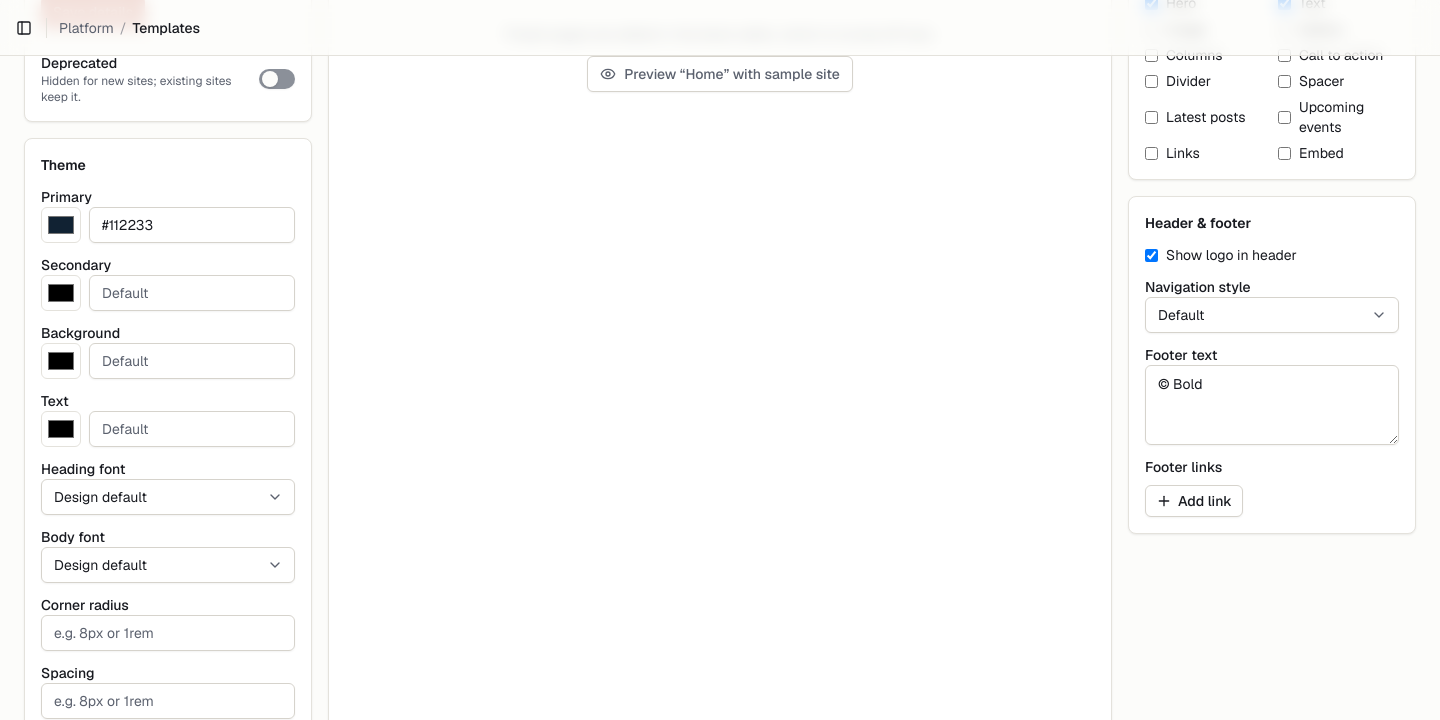
it: template editor › shows a backend 400 path in words
This screenshot has width=1440, height=720.
(page scrolled)
Replace the text in the text box labelled "Footer text" with "changed": (1272, 405) [1145,365,1399,445]
(page scrolled)
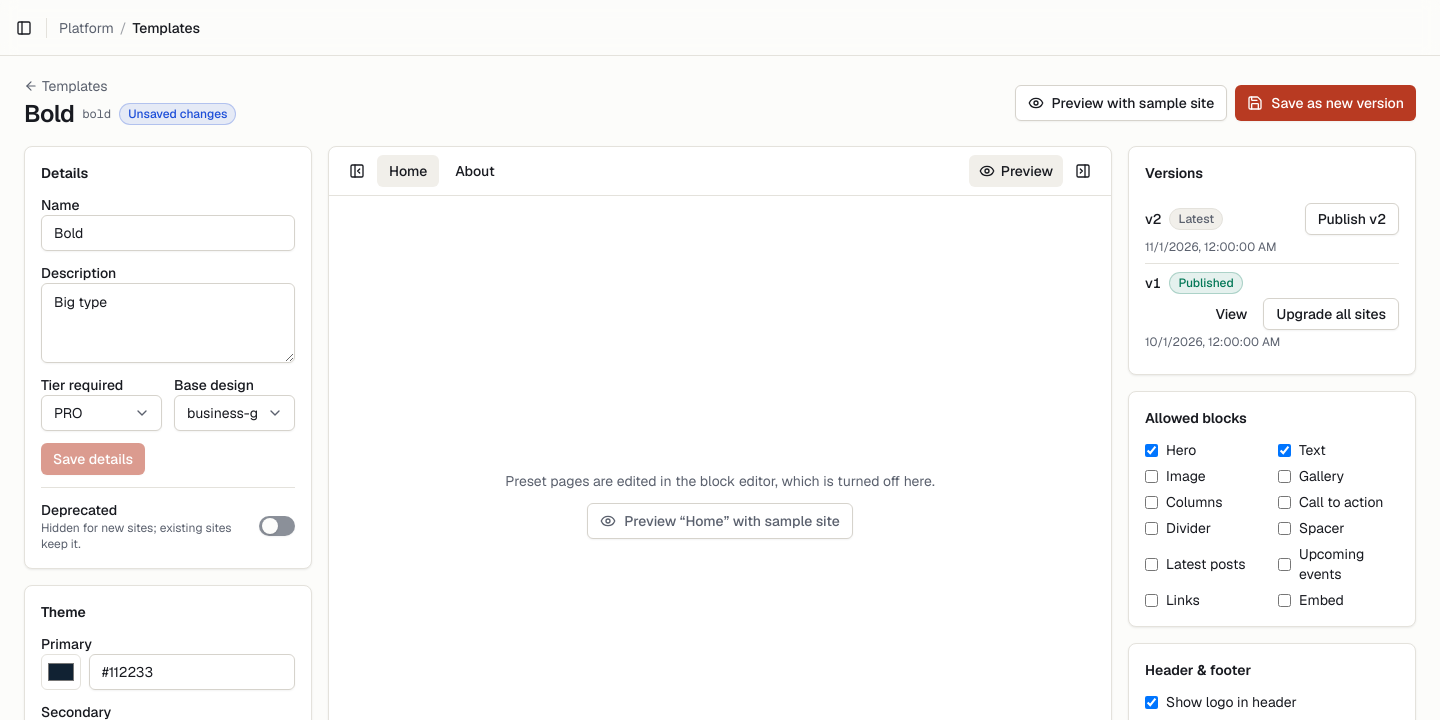
Click the button "Save as new version": (1326, 103) [1235,85,1416,121]
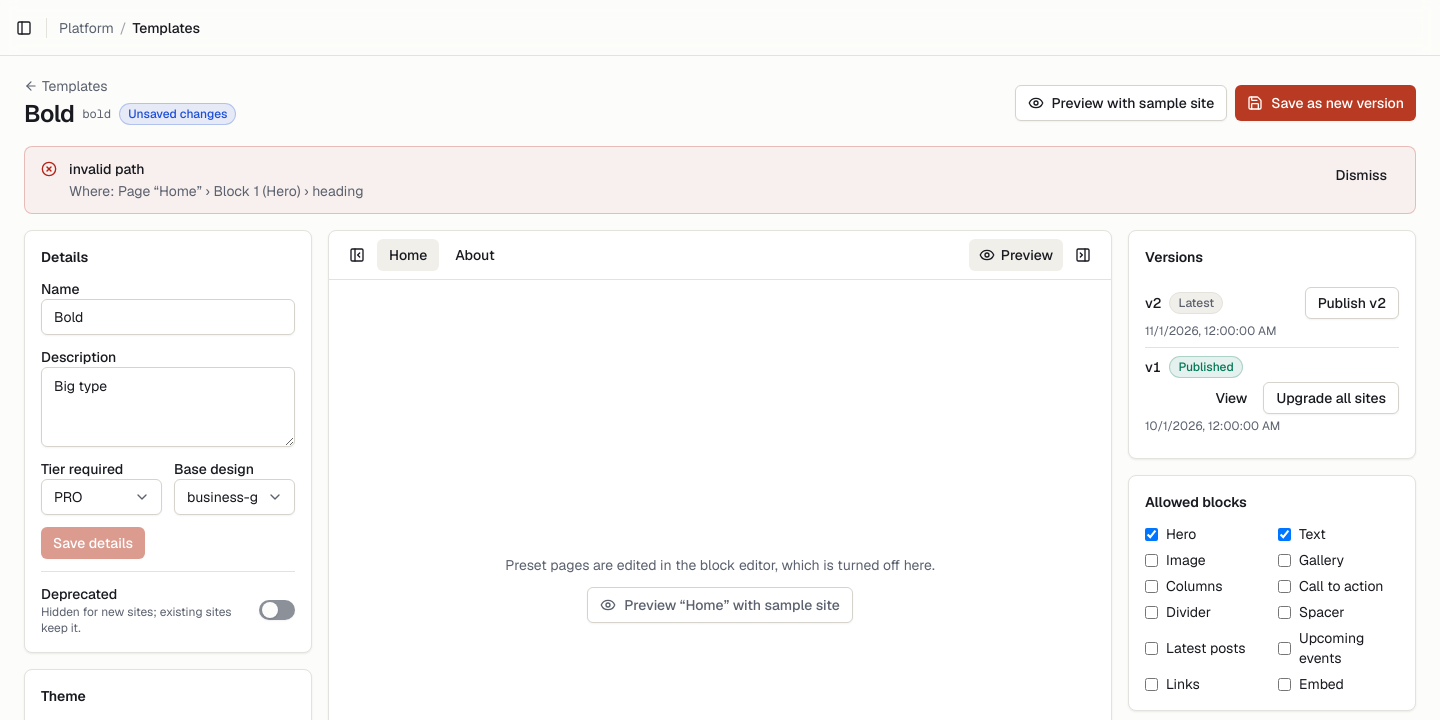
Now the text "Where: Page “Home” › Block 1 (Hero) › heading" is shown, box [69,182,364,200]
